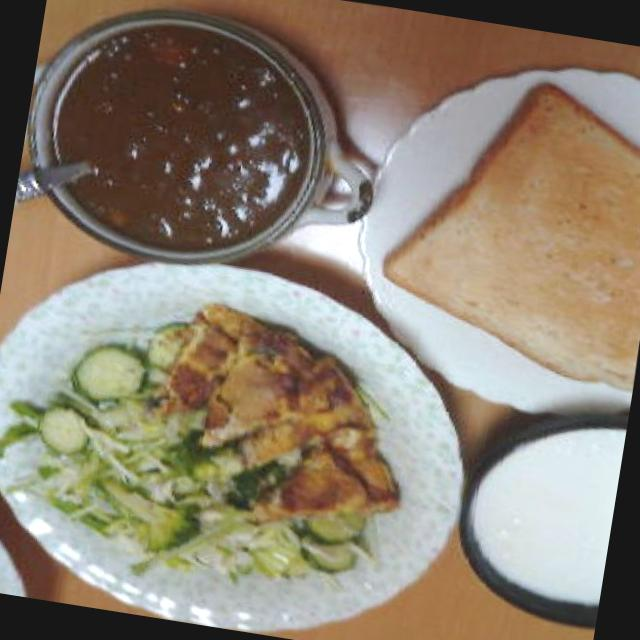Green Salad: (28, 372, 282, 576)
